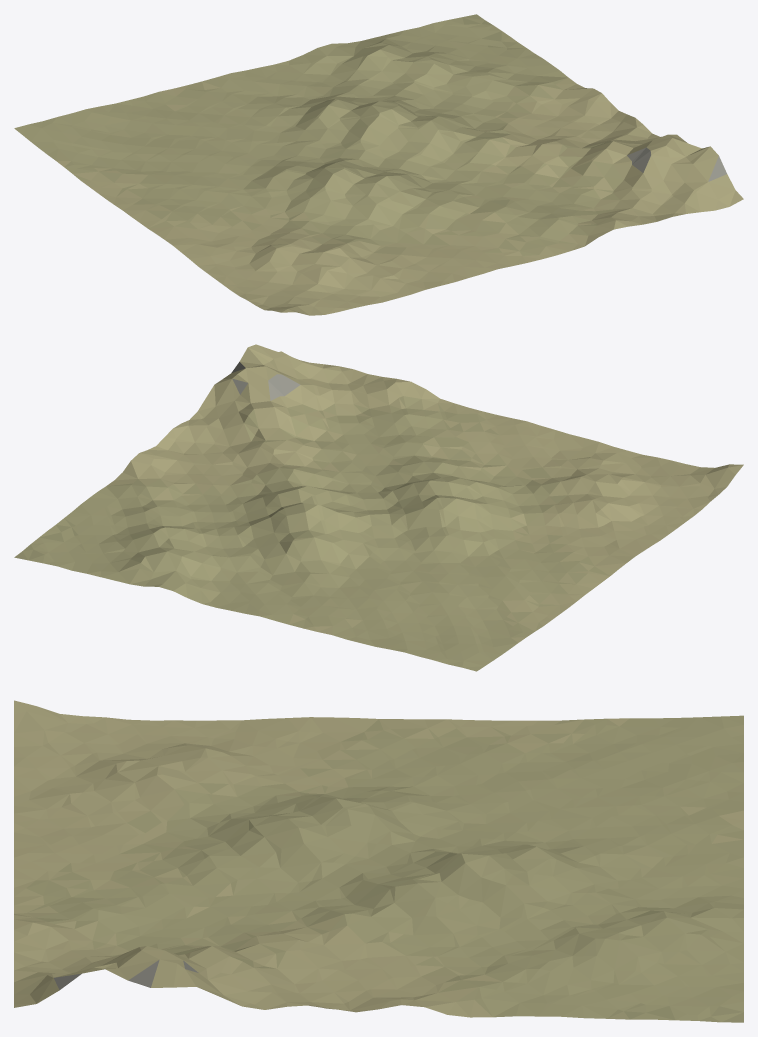
Rendered from Ground_2_-1.glb.
3 renders of one model, top to bottom at view 1: azimuth 30°, elevation 25°; view 2: azimuth 150°, elevation 25°; view 3: azimuth 270°, elevation 25°, orthographic. The views are drawn at different scales.
Visible parts, largest first — view 1: Ground_2_-1; view 2: Ground_2_-1; view 3: Ground_2_-1.
Boxes of the visible parts, left/top/right/bottom form: Ground_2_-1: left=14, top=14, right=743, bottom=315; Ground_2_-1: left=14, top=344, right=743, bottom=671; Ground_2_-1: left=14, top=700, right=743, bottom=1022.
Bounding box in the file's own units: 768 × 69.39 × 768.
